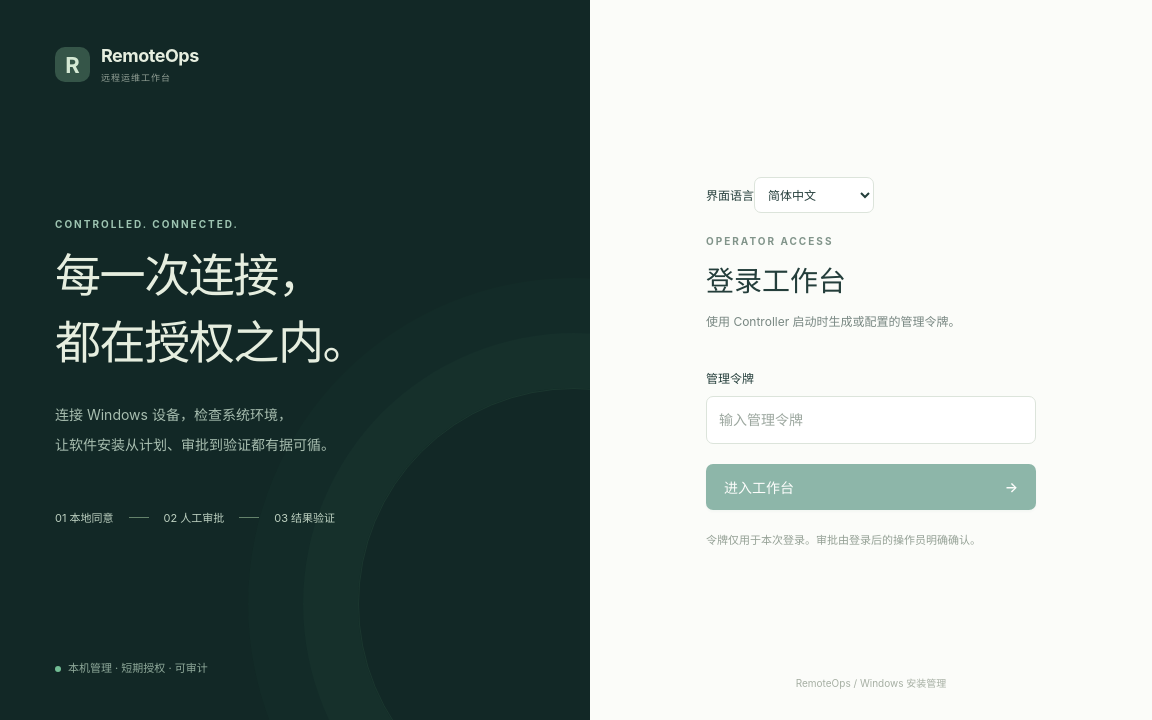
management UI › hides execution when an approval was consumed even if its status remains approved
The width and height of the screenshot is (1152, 720).
Type "test-token" into the password field labelled "管理令牌" at [871, 420], box x1=706 y1=396 x2=1036 y2=444
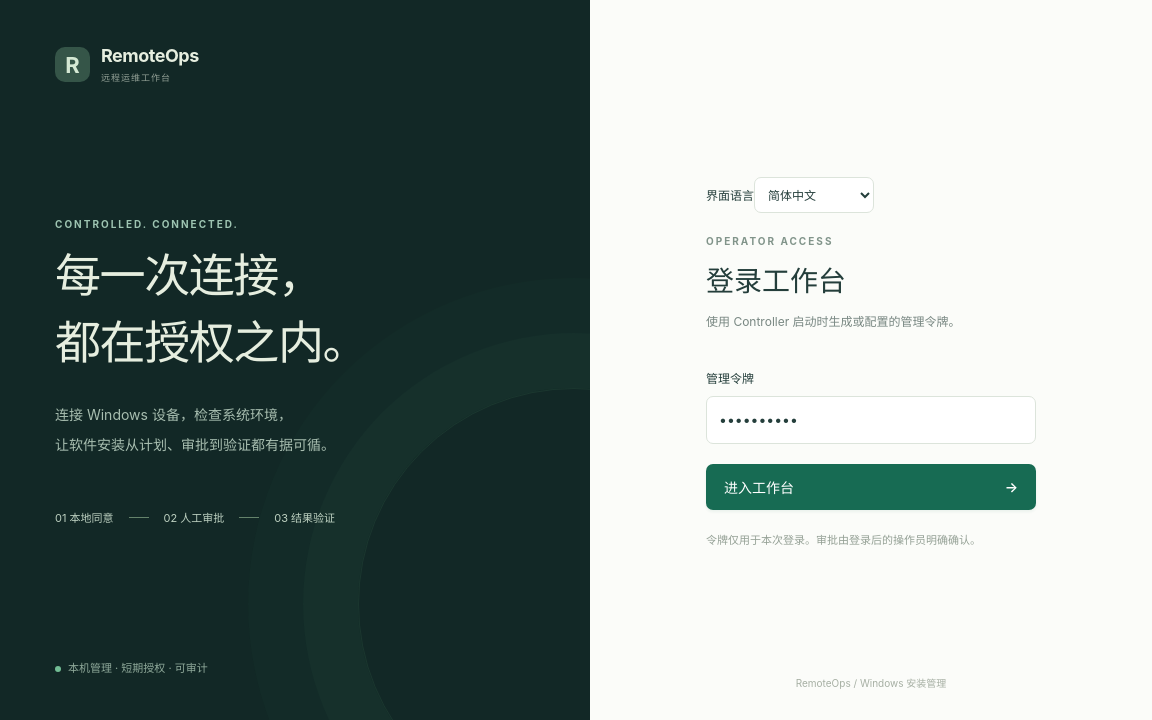
Submit the form, box x1=706 y1=169 x2=1036 y2=551
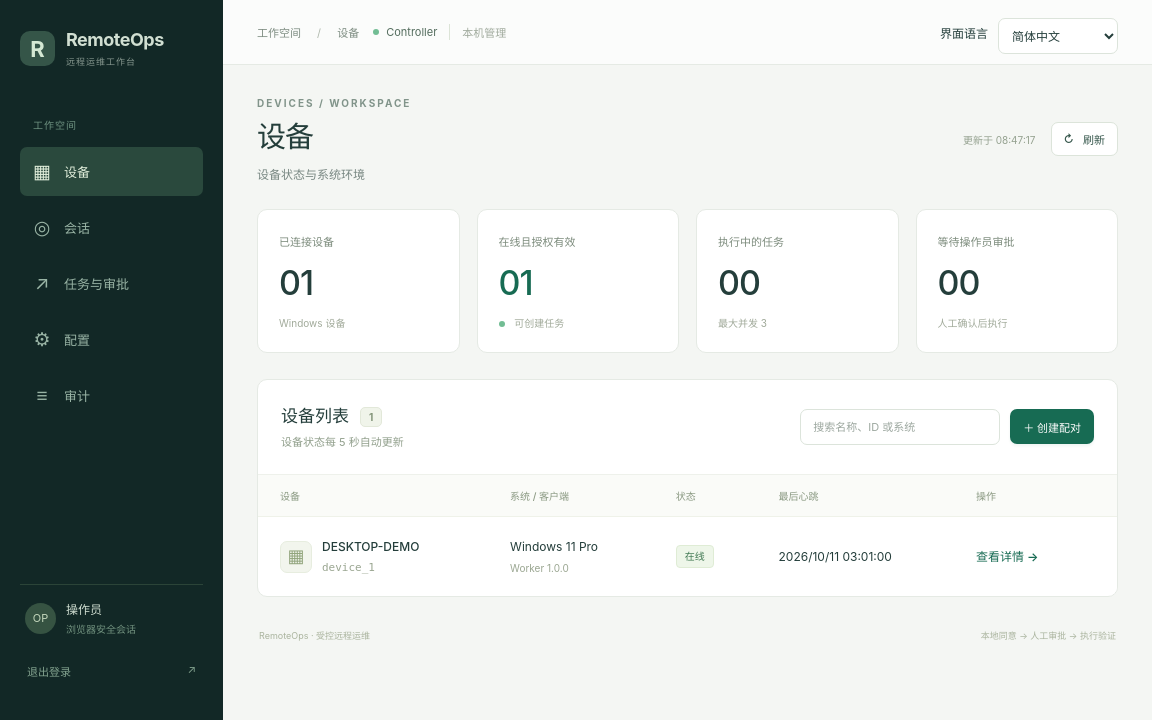
Click the button "↗ 任务与审批" at [112, 284], box x1=20 y1=259 x2=203 y2=308
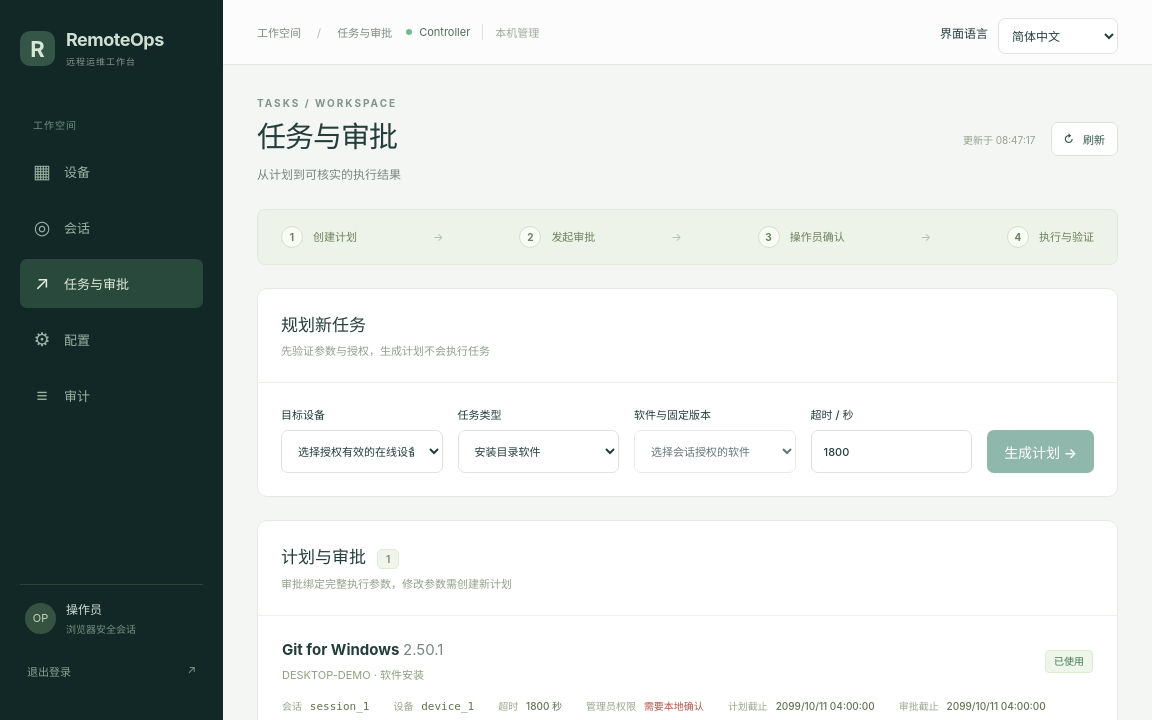
expect the text "已使用" is shown: met, box x1=1045 y1=650 x2=1093 y2=673
